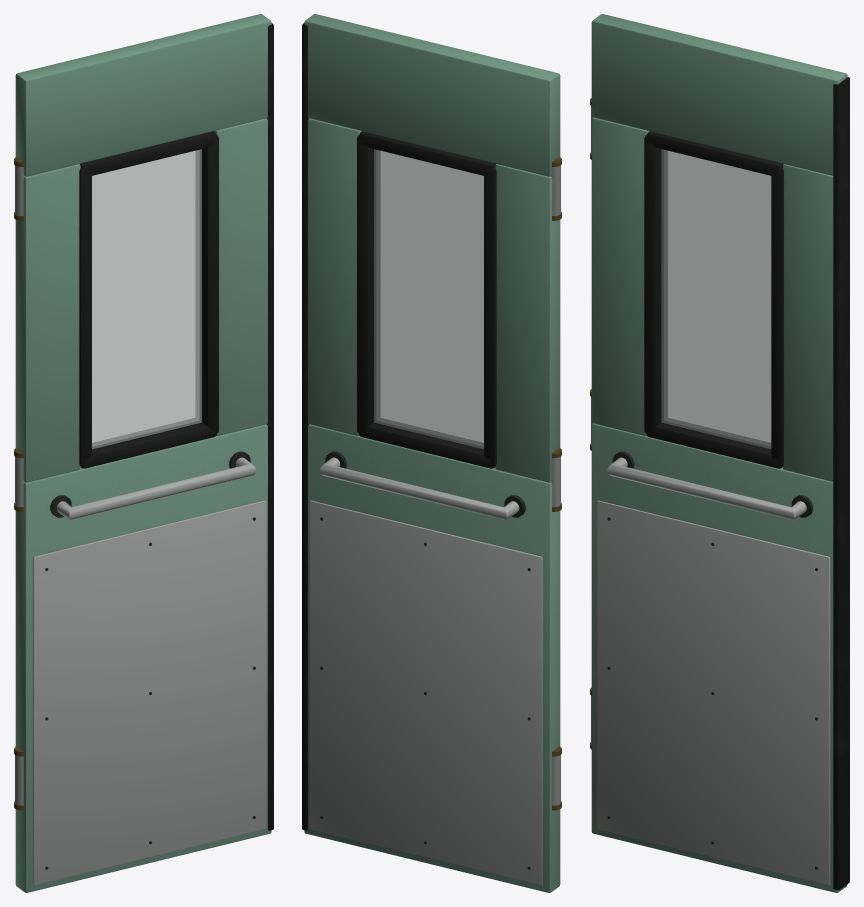
The model's file is CTCC_ENV_EmergencySwingDoorLeaf.fbx.
3 views of the same model, side by side, from view 1: azimuth 30°, elevation 25°; view 2: azimuth 150°, elevation 25°; view 3: azimuth 330°, elevation 25° (orthographic).
Parts seen in each view (by area): view 1: ERDoorBody, ERDoorGlass; view 2: ERDoorBody, ERDoorGlass; view 3: ERDoorBody, ERDoorGlass.
Boxes of the visible parts, x1,y1,x2,y2 form: ERDoorBody: (14, 14, 273, 892); ERDoorGlass: (92, 149, 201, 449); ERDoorBody: (302, 14, 561, 892); ERDoorGlass: (374, 149, 483, 449); ERDoorBody: (590, 14, 849, 892); ERDoorGlass: (661, 149, 771, 448).
Size of the model in its own units: 0.7115 by 2.18 by 0.1866.
